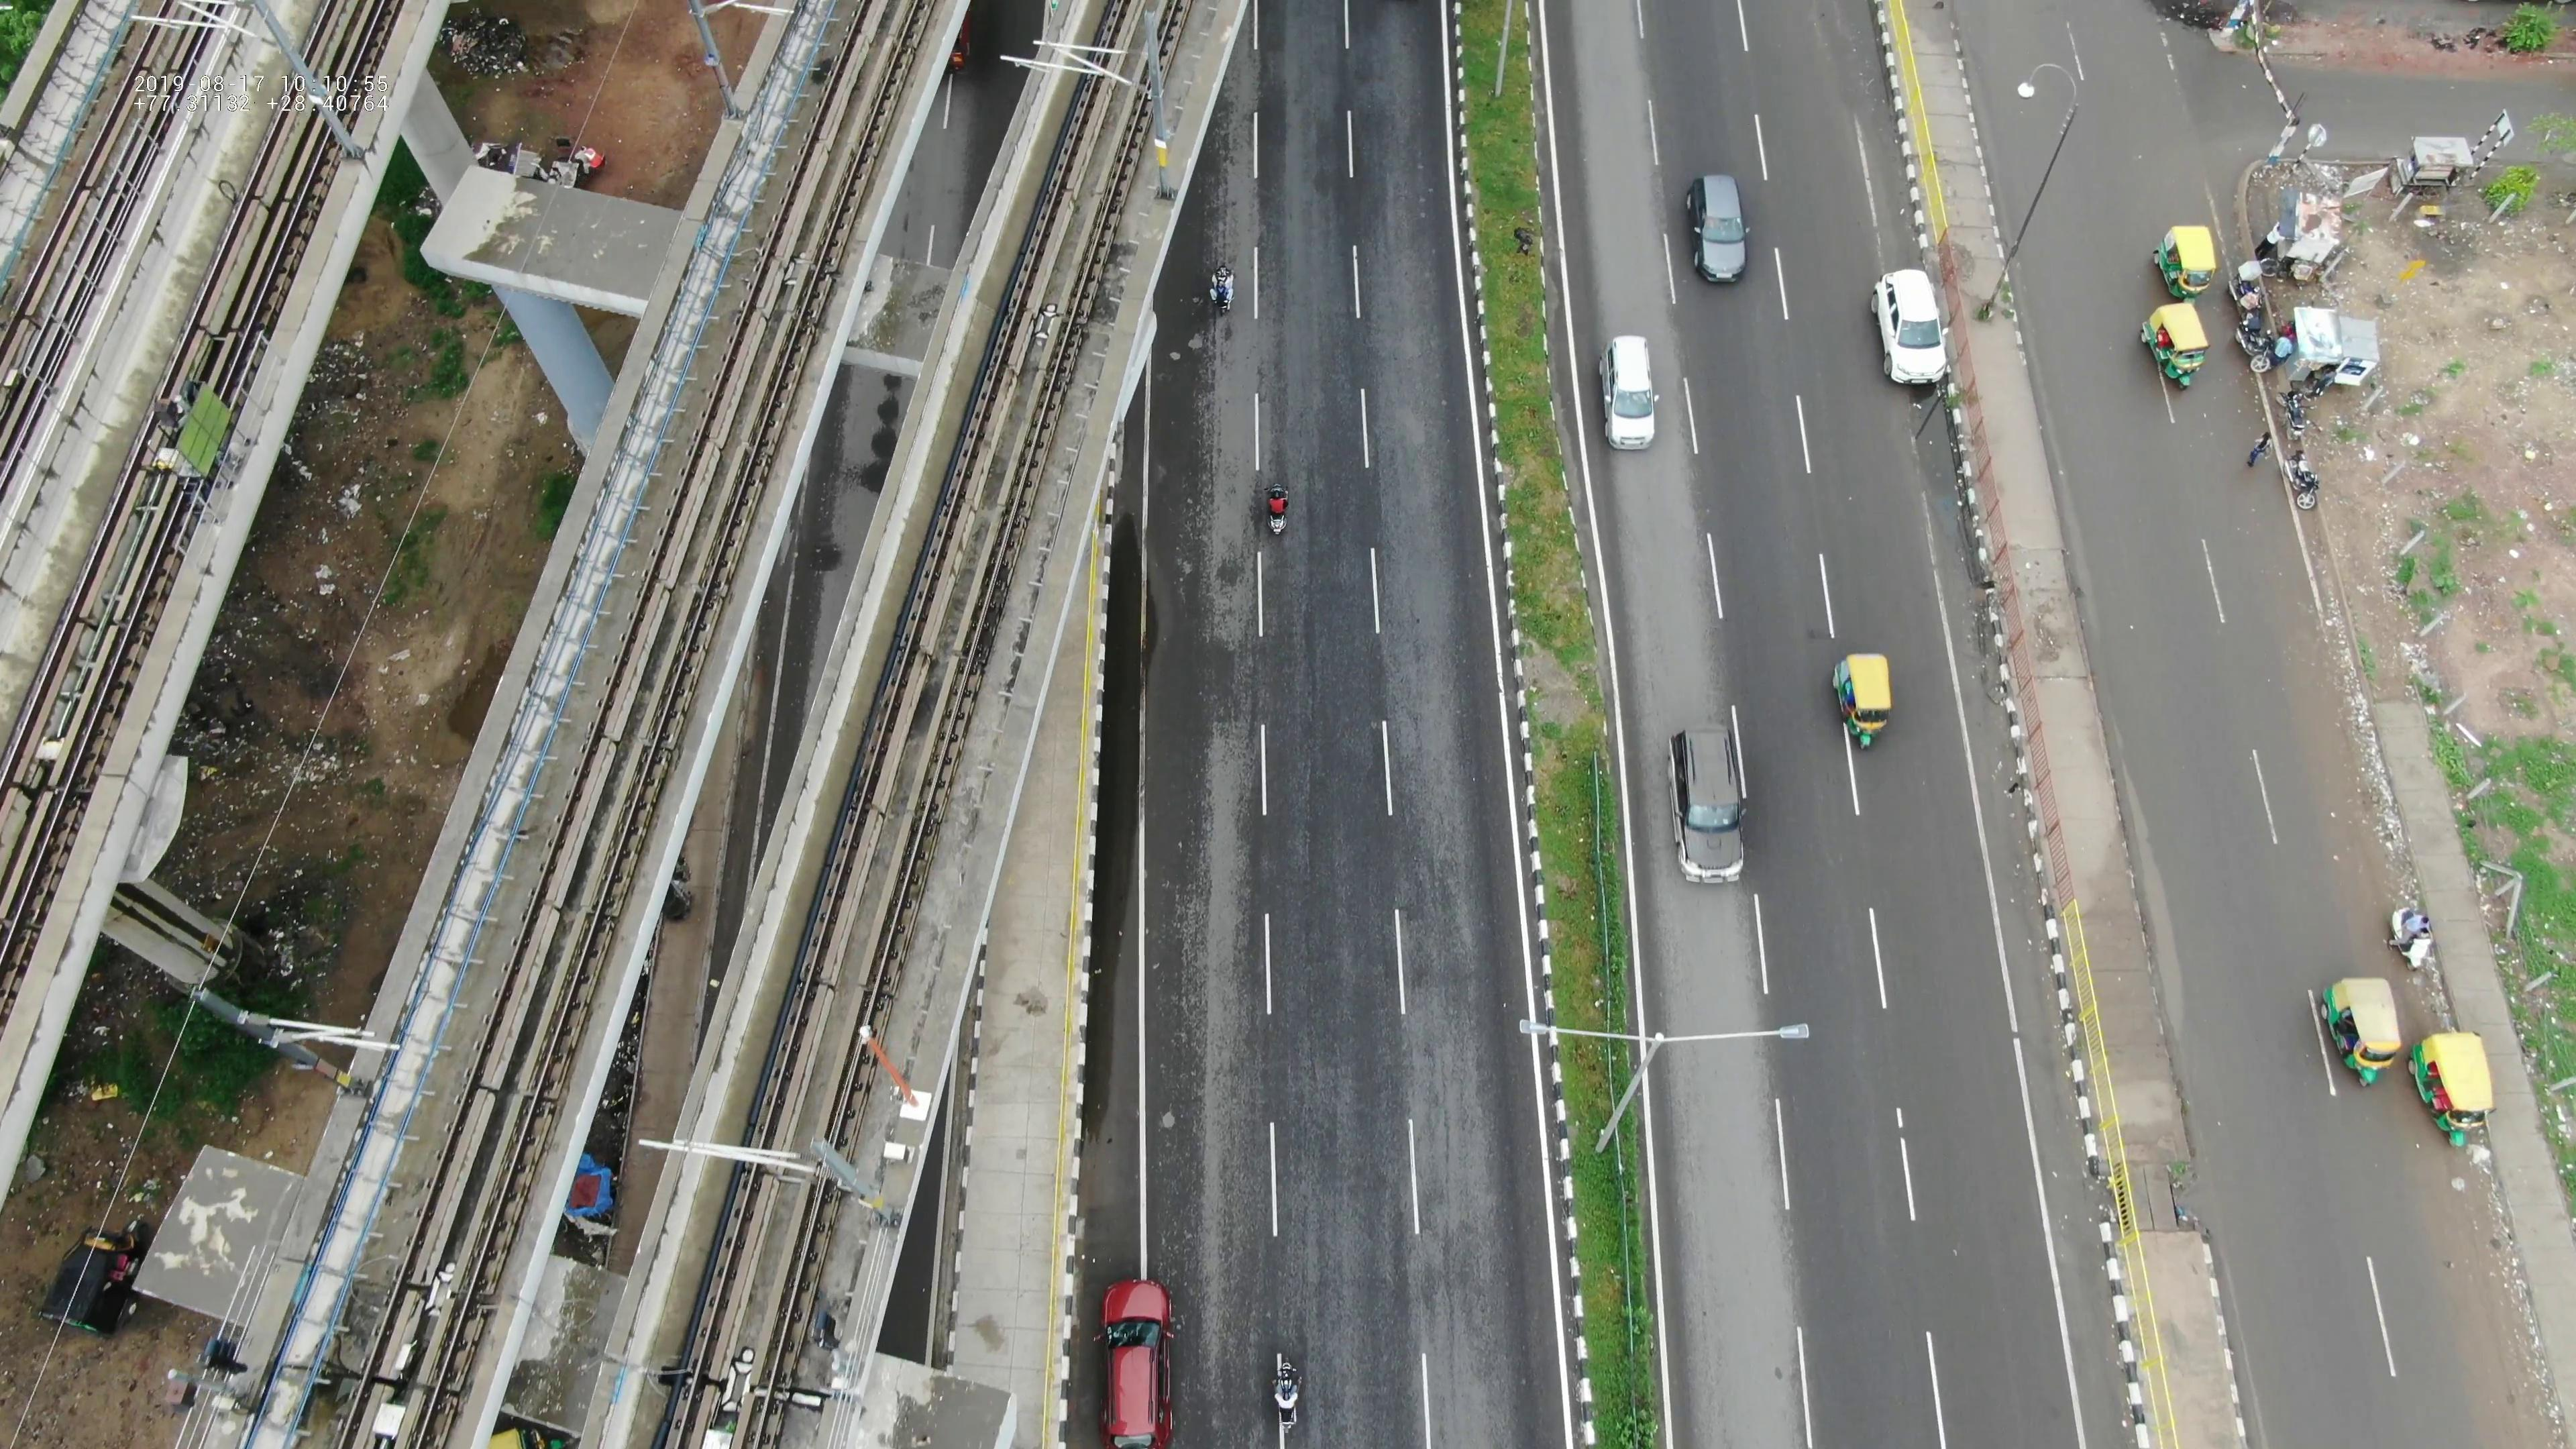Waterlogging: (1072, 529, 1161, 916), (1897, 405, 1996, 614)
